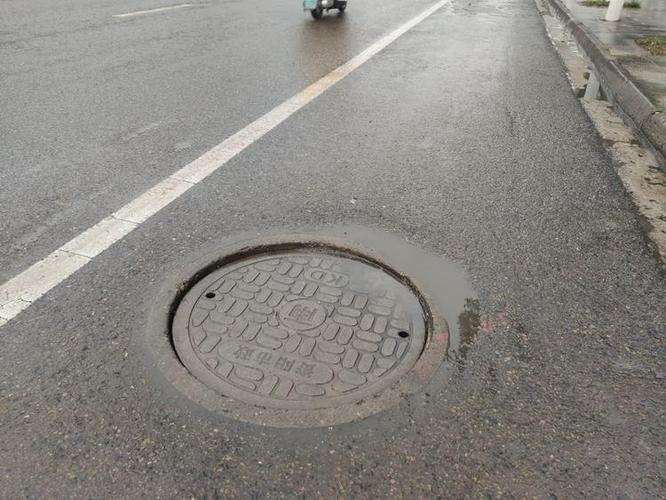good: (138, 215, 492, 436)
